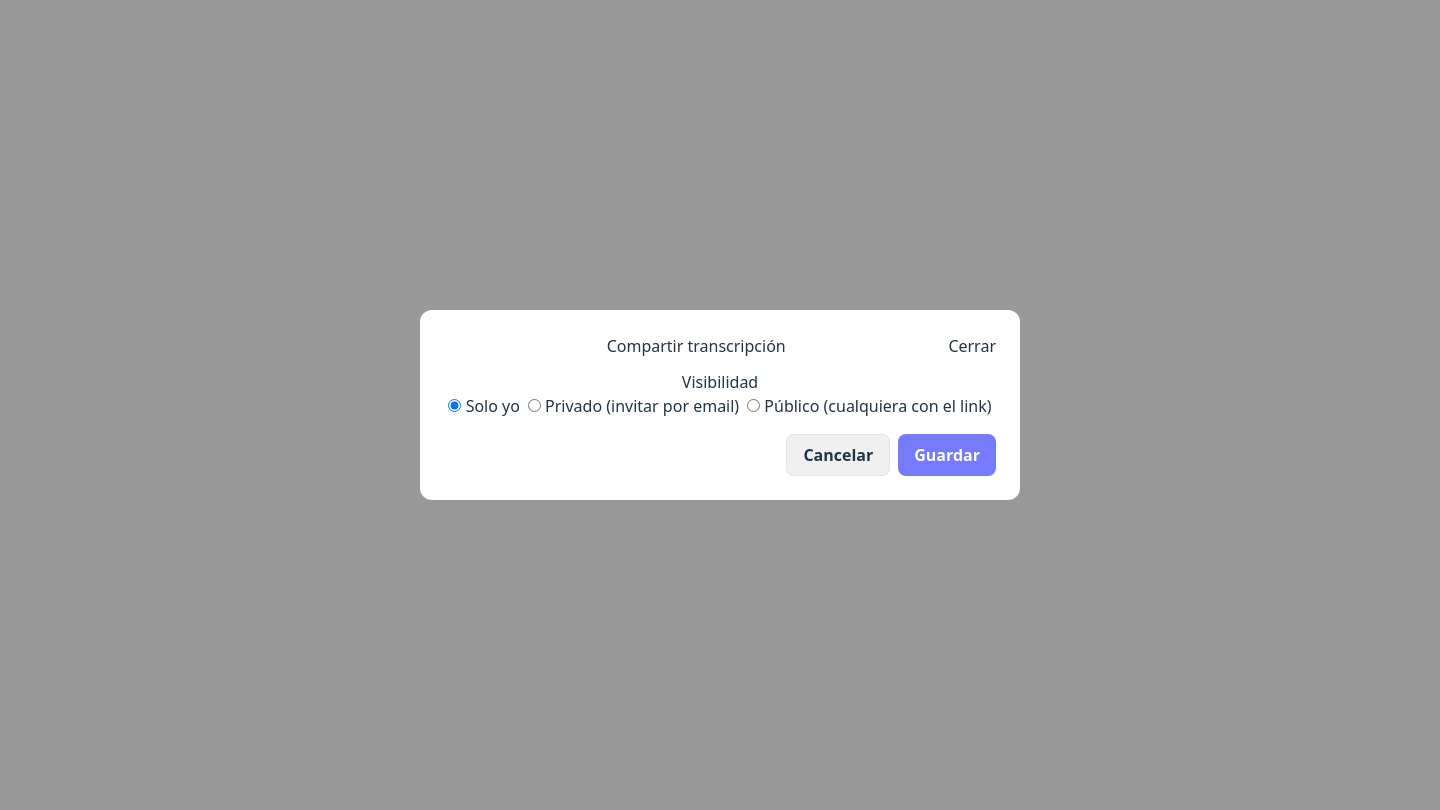
it: ShareModal › debería cambiar visibilidad a privado y mostrar input de emails
What coordinates should you click on to do the following:
click the radio button labelled "Privado (invitar por email)"
I would click on:
 (534, 406)
Its box is [528,399,541,412].
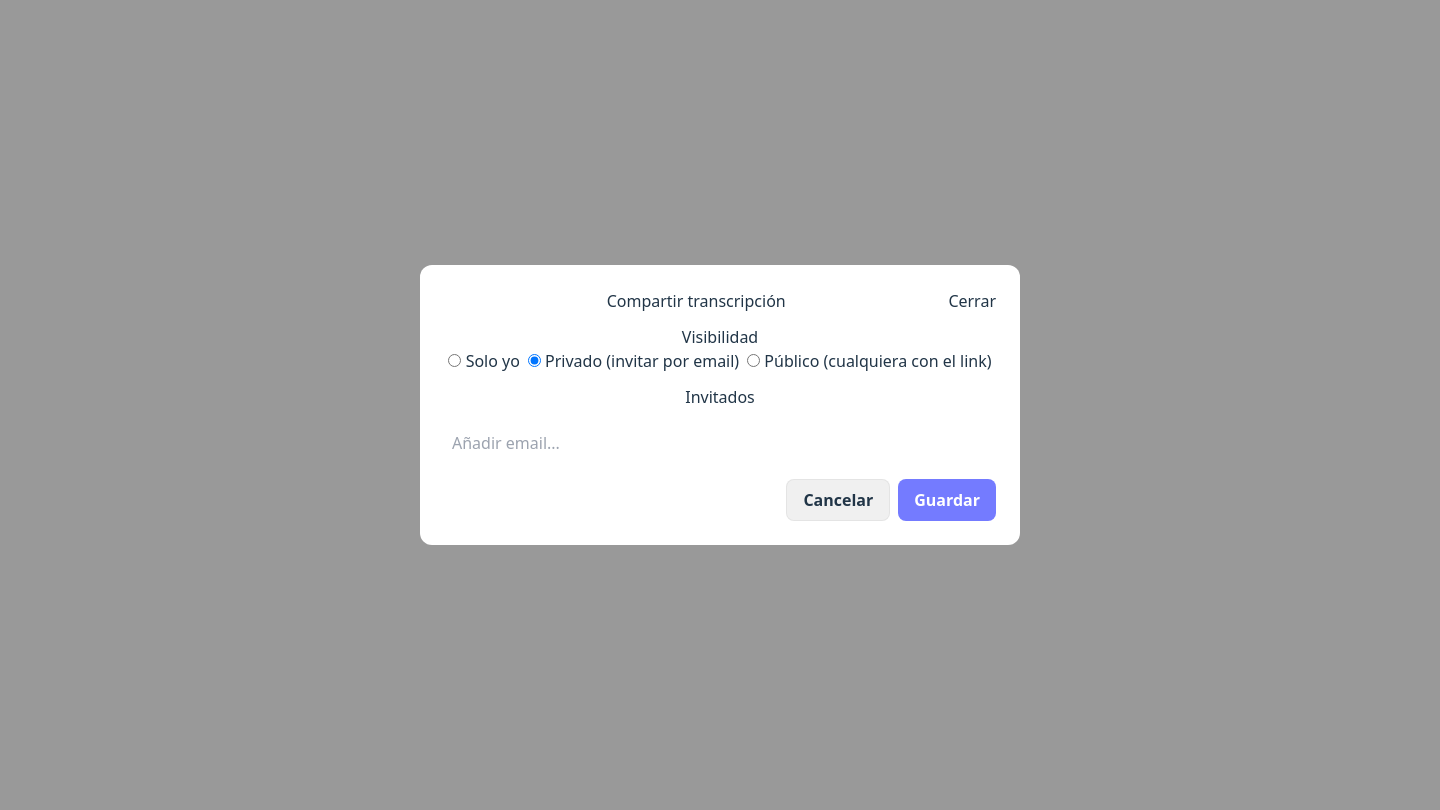
Result: the text "Invitados" is shown at [685,386,755,408]
Result: the field with placeholder "Añadir email..." is shown at [444,423,996,463]
